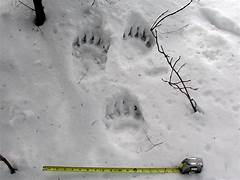bear: (72, 32, 113, 83), (101, 98, 147, 143)
